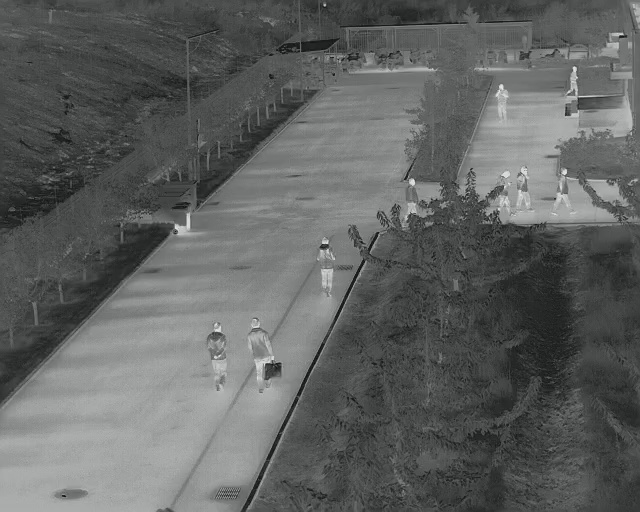person: (245, 318, 276, 393), (206, 321, 230, 391), (313, 236, 334, 298), (552, 166, 573, 214), (515, 166, 536, 213), (496, 170, 512, 215), (494, 83, 509, 124), (404, 178, 418, 215), (564, 66, 578, 98)
